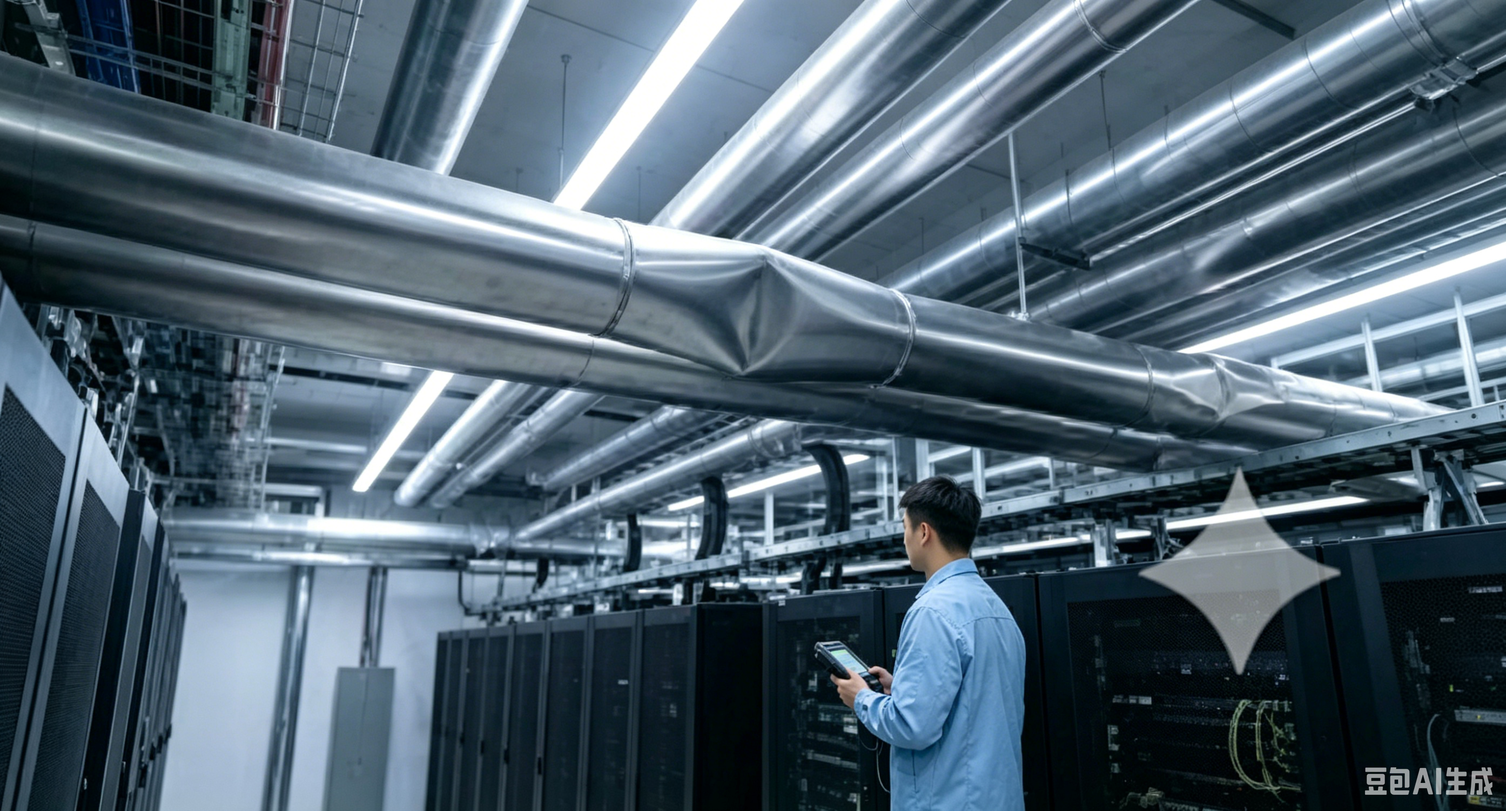Leakage: (686, 242, 819, 390), (1156, 353, 1328, 437)
